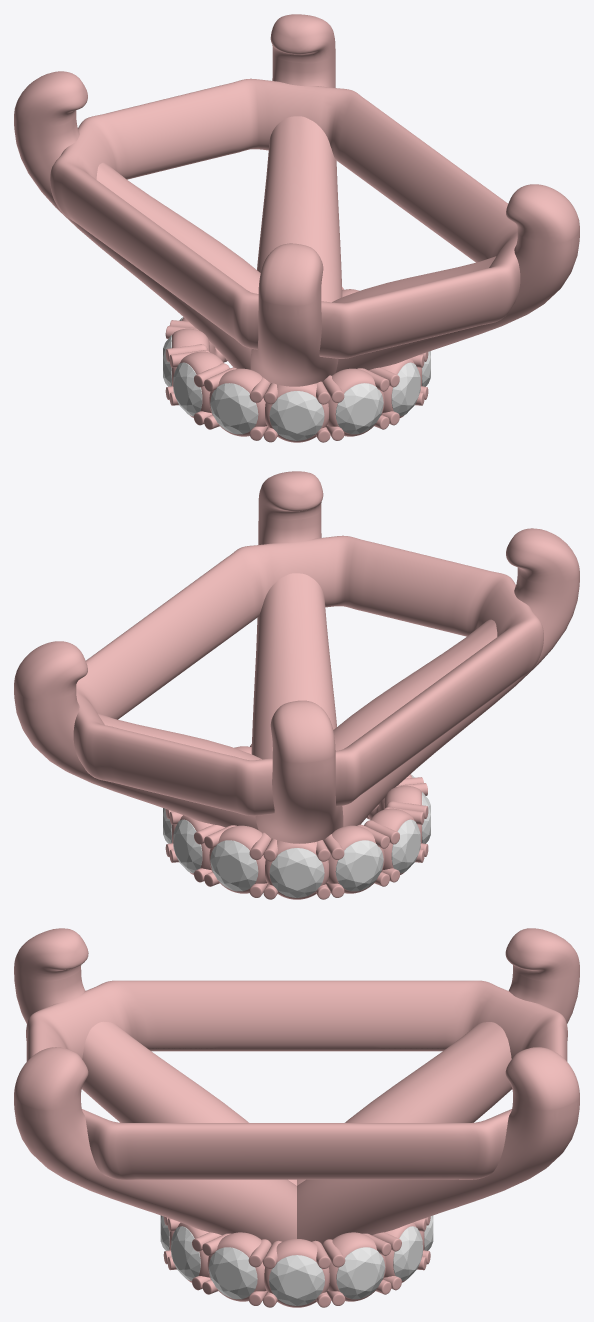
File: EMERALD.glb
3 renders of one model, top to bottom at view 1: azimuth 30°, elevation 25°; view 2: azimuth 150°, elevation 25°; view 3: azimuth 270°, elevation 25°, orthographic.
Visible parts, largest first — view 1: emerald.002, hidden halo.003, hidden halo - diamonds.003; view 2: emerald.002, hidden halo.003, hidden halo - diamonds.003; view 3: emerald.002, hidden halo - diamonds.003, hidden halo.003.
Boxes of the visible parts, x1,y1,x2,y2 form: emerald.002: [14, 14, 579, 386]; hidden halo.003: [165, 287, 428, 442]; hidden halo - diamonds.003: [163, 317, 430, 440]; emerald.002: [14, 471, 579, 843]; hidden halo.003: [165, 744, 428, 899]; hidden halo - diamonds.003: [163, 774, 430, 897]; emerald.002: [14, 928, 579, 1244]; hidden halo - diamonds.003: [160, 1215, 433, 1305]; hidden halo.003: [163, 1216, 430, 1307].
Size of the model in its own units: 5.12 by 4.51 by 7.8.
